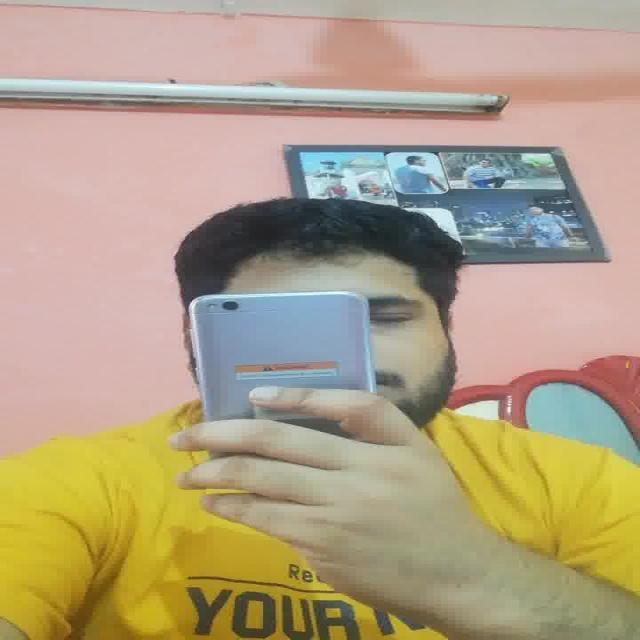Phone: (186, 287, 377, 412)
